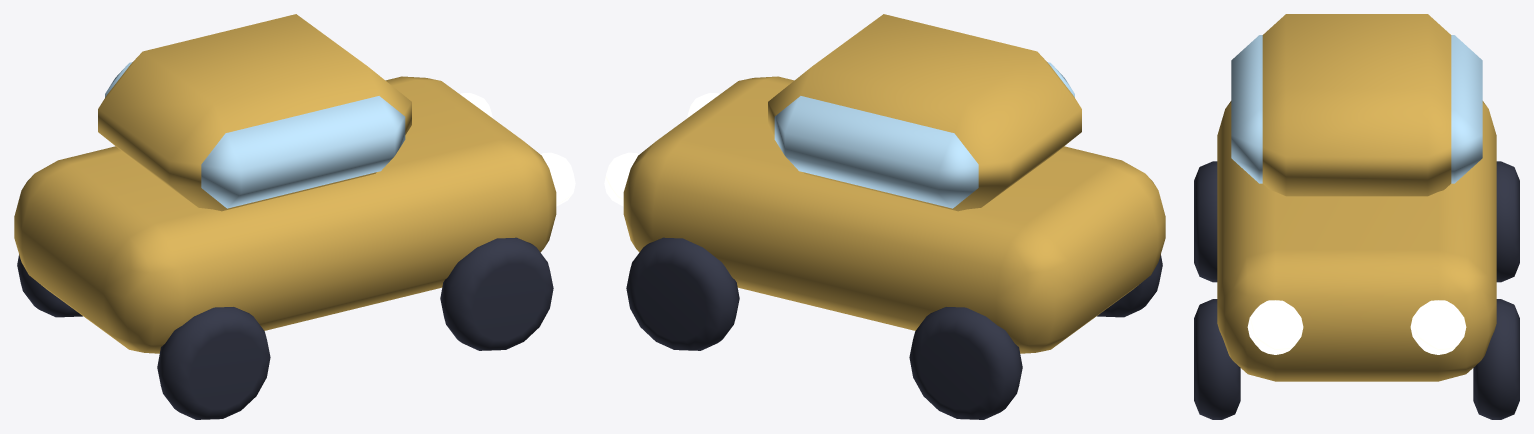
Rendered from car_yellow.glb.
3 views of the same model, side by side, from view 1: azimuth 30°, elevation 25°; view 2: azimuth 150°, elevation 25°; view 3: azimuth 270°, elevation 25° (orthographic).
Visible parts, largest first — view 1: Cube; view 2: Cube; view 3: Cube.
Boxes of the visible parts, <box> form: Cube: <box>14,14,575,419</box>; Cube: <box>604,14,1165,419</box>; Cube: <box>1194,14,1519,419</box>.
Size of the model in its own units: 0.232 by 0.1325 by 0.14.
